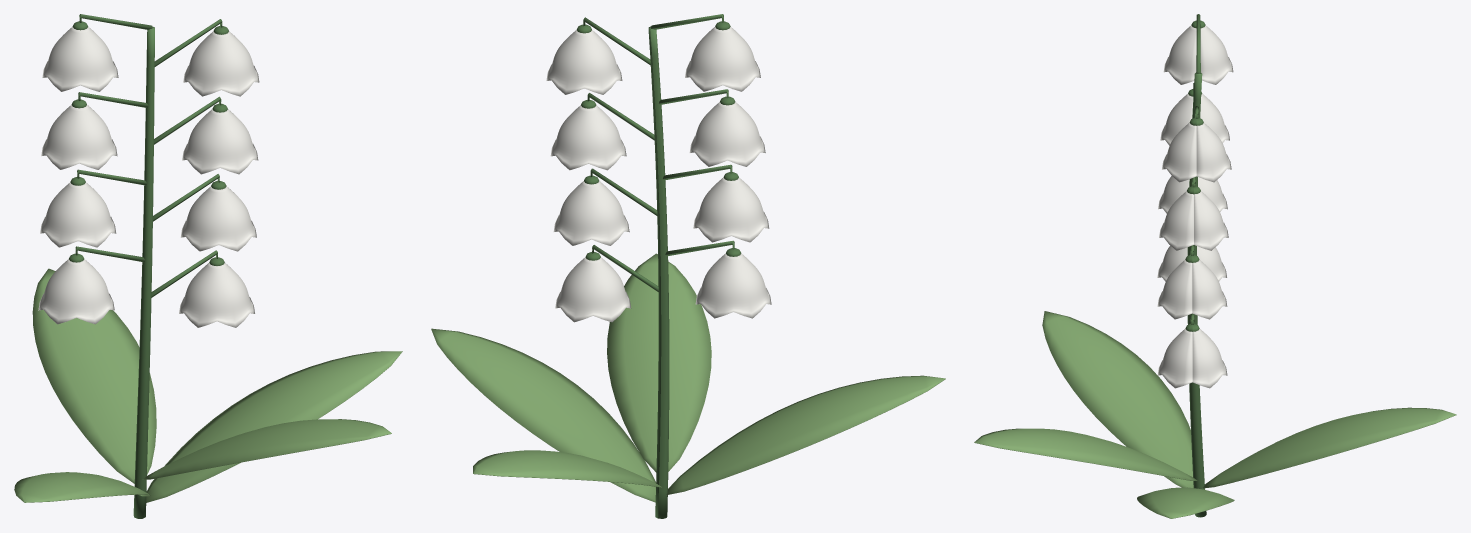
File: lily-fine-v2.glb
3 views of the same model, side by side, from view 1: azimuth 30°, elevation 25°; view 2: azimuth 150°, elevation 25°; view 3: azimuth 270°, elevation 25° (orthographic). The views are drawn at different scales.
Parts seen in each view (by area): view 1: lily-fine-v2-leaf, lily-fine-v2-petal, lily-fine-v2-stem; view 2: lily-fine-v2-leaf, lily-fine-v2-petal, lily-fine-v2-stem; view 3: lily-fine-v2-leaf, lily-fine-v2-petal, lily-fine-v2-stem.
Boxes of the visible parts, box(x1,y1,x2,y2) form: lily-fine-v2-leaf: box(14, 268, 402, 502); lily-fine-v2-petal: box(38, 26, 259, 327); lily-fine-v2-stem: box(69, 14, 228, 518); lily-fine-v2-leaf: box(431, 253, 945, 502); lily-fine-v2-petal: box(546, 27, 771, 322); lily-fine-v2-stem: box(576, 14, 741, 518); lily-fine-v2-leaf: box(974, 311, 1456, 518); lily-fine-v2-petal: box(1157, 25, 1233, 388); lily-fine-v2-stem: box(1185, 14, 1206, 517).
Size of the model in its own units: 1.38 by 1.53 by 1.41.
